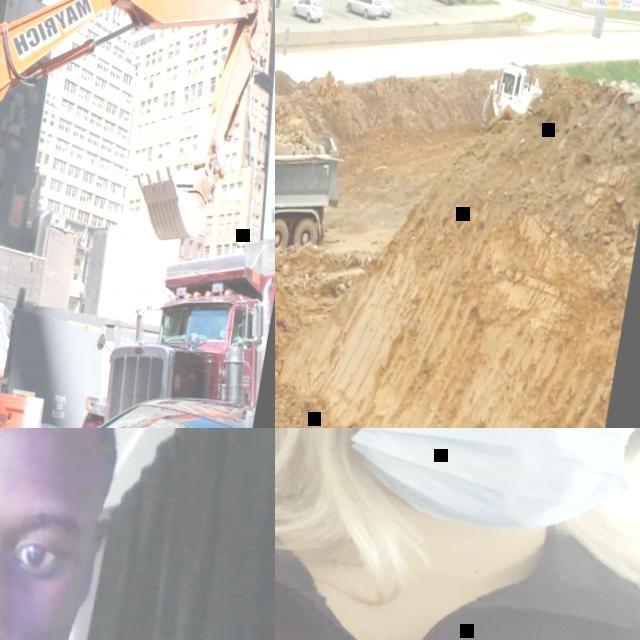Mask: (339, 428, 640, 547)
NO-Safety Vest: (275, 470, 640, 640)
Person: (275, 428, 640, 640), (0, 428, 275, 640)
machinery: (0, 0, 272, 428), (275, 100, 350, 264), (475, 57, 547, 146)
vehicle: (69, 230, 275, 428), (6, 366, 254, 428), (289, 0, 325, 25), (343, 0, 383, 22), (362, 0, 394, 18), (429, 0, 458, 5)
